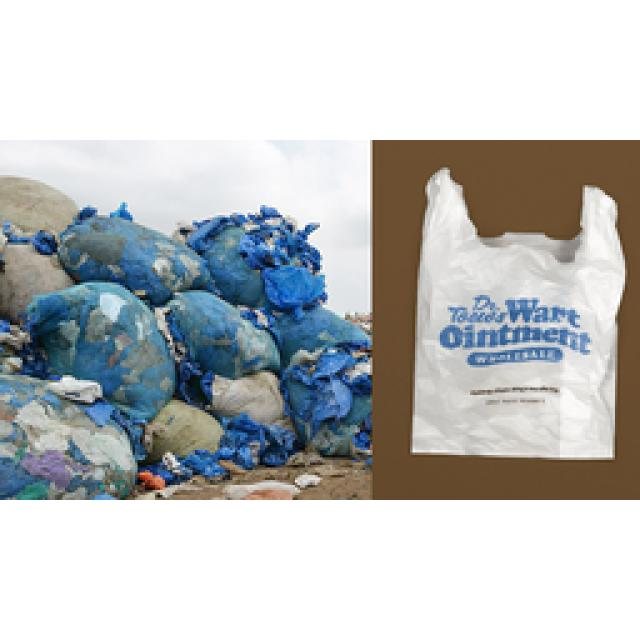plastic: (0, 178, 368, 498), (410, 170, 622, 458)
